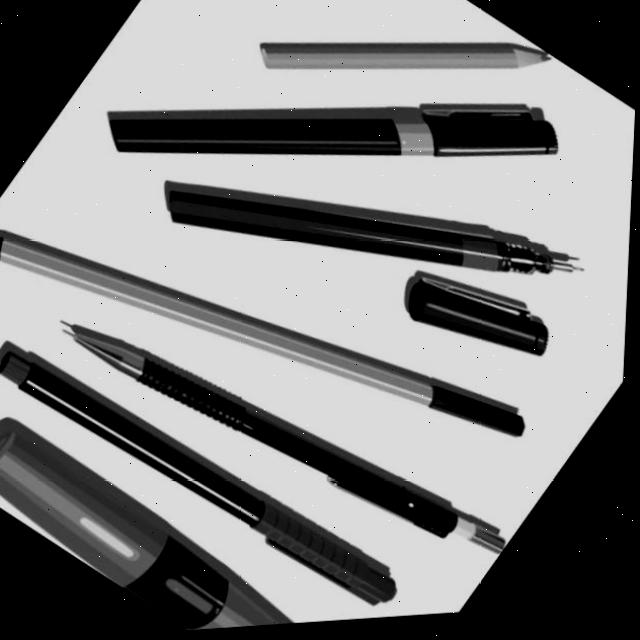pencil: (52, 299, 532, 556), (0, 225, 531, 450), (0, 331, 398, 604), (158, 170, 602, 358), (0, 412, 296, 640), (101, 100, 595, 167), (254, 28, 564, 86)
